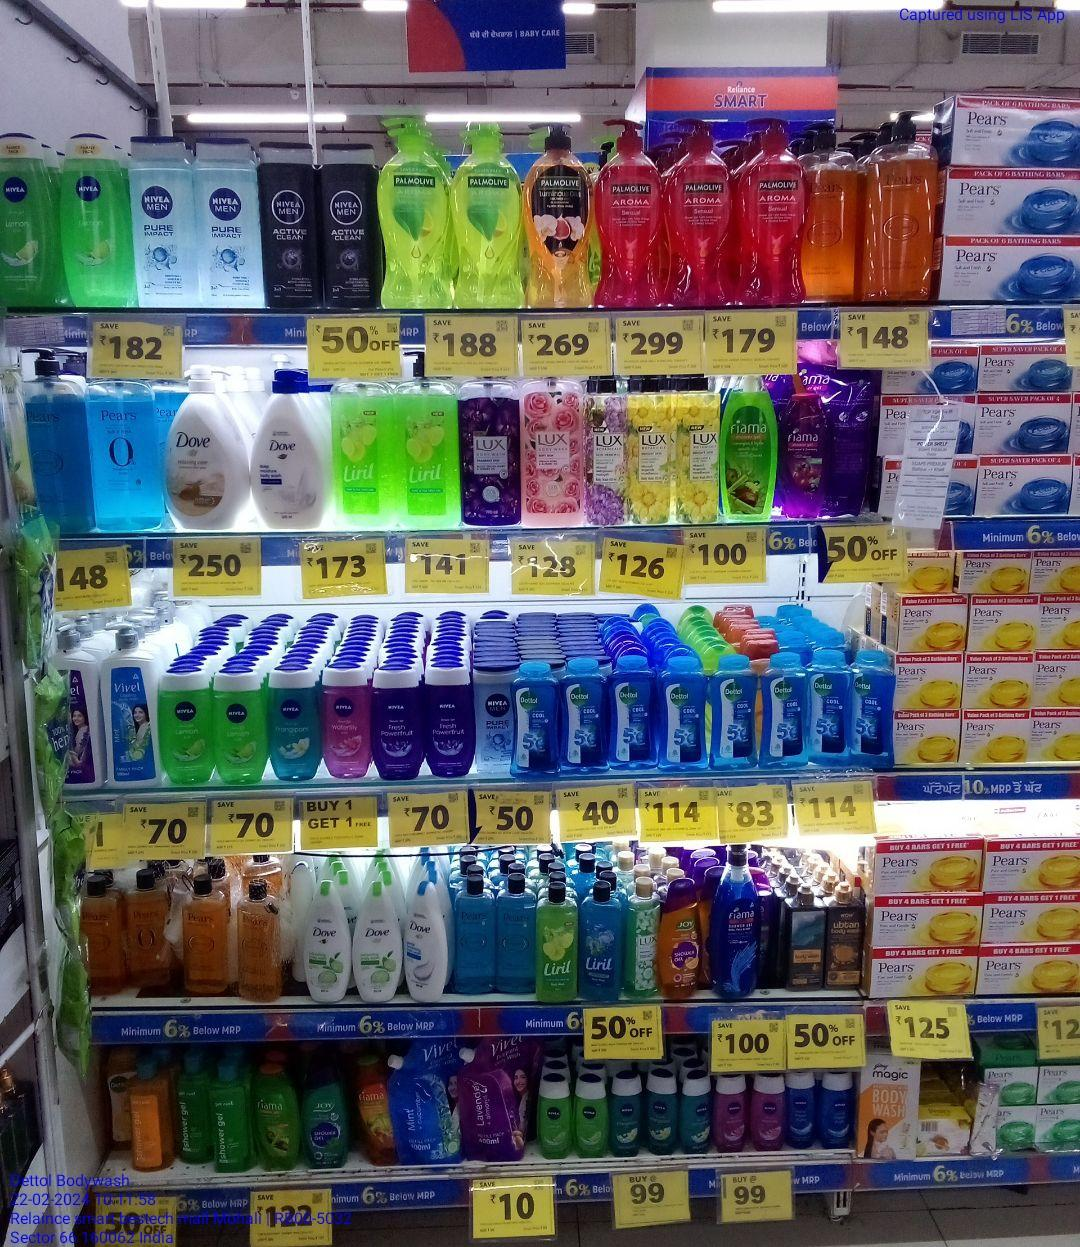Dettol_Bodywash_Cool: (655, 655, 705, 772), (511, 662, 559, 779), (709, 654, 756, 770), (560, 657, 605, 775), (759, 658, 808, 768), (854, 648, 892, 772), (612, 653, 651, 770), (810, 651, 844, 766)
Dove_Gentle_Exfoliating_Body_Wash_250ML: (403, 884, 447, 999)
Dove_Refreshing_Body_Wash_250ML: (304, 879, 350, 1000), (353, 888, 400, 1002)
Fiama_Shower_Gel_Peach_and_Avocado_250ML: (360, 1057, 392, 1170)
Joy_Shower_Gel_Mandarin_and_Lemongrass_250ML: (253, 1059, 301, 1172), (661, 884, 700, 999)
Joy_Shower_Gel_Mint_and_Eucalyptus_250ML: (304, 1065, 344, 1167)
Liril_Cooling_Mint_Body_Wash_250ML: (583, 888, 621, 1002)
Liril_Lime_and_Tea_Tree_Oil_Body_Wash_250ML: (541, 885, 580, 1003)
Lux_Body_Wash_Skin_Detox_Freesia_Scent_and_Alove_Vera_245ML: (627, 879, 658, 995)
Nivea_Shower_Gel_Frangipani_and_Oil_250ML: (266, 668, 317, 780)
Nivea_Shower_Gel_Fresh_Powerfruit_250ML: (370, 671, 424, 779), (426, 667, 475, 776)
Nivea_Shower_Gel_Lemon_and_Oil_250ML: (63, 139, 134, 310), (0, 130, 55, 306), (213, 671, 265, 787), (159, 672, 211, 783)
Nivea_Shower_Gel_Waterlily_and_Oil_250ML: (320, 664, 366, 779)
Pears_Pure_Glycerin_and_Mint_Extracts_Body_Wash_250ML: (455, 870, 497, 994), (500, 878, 535, 991)
